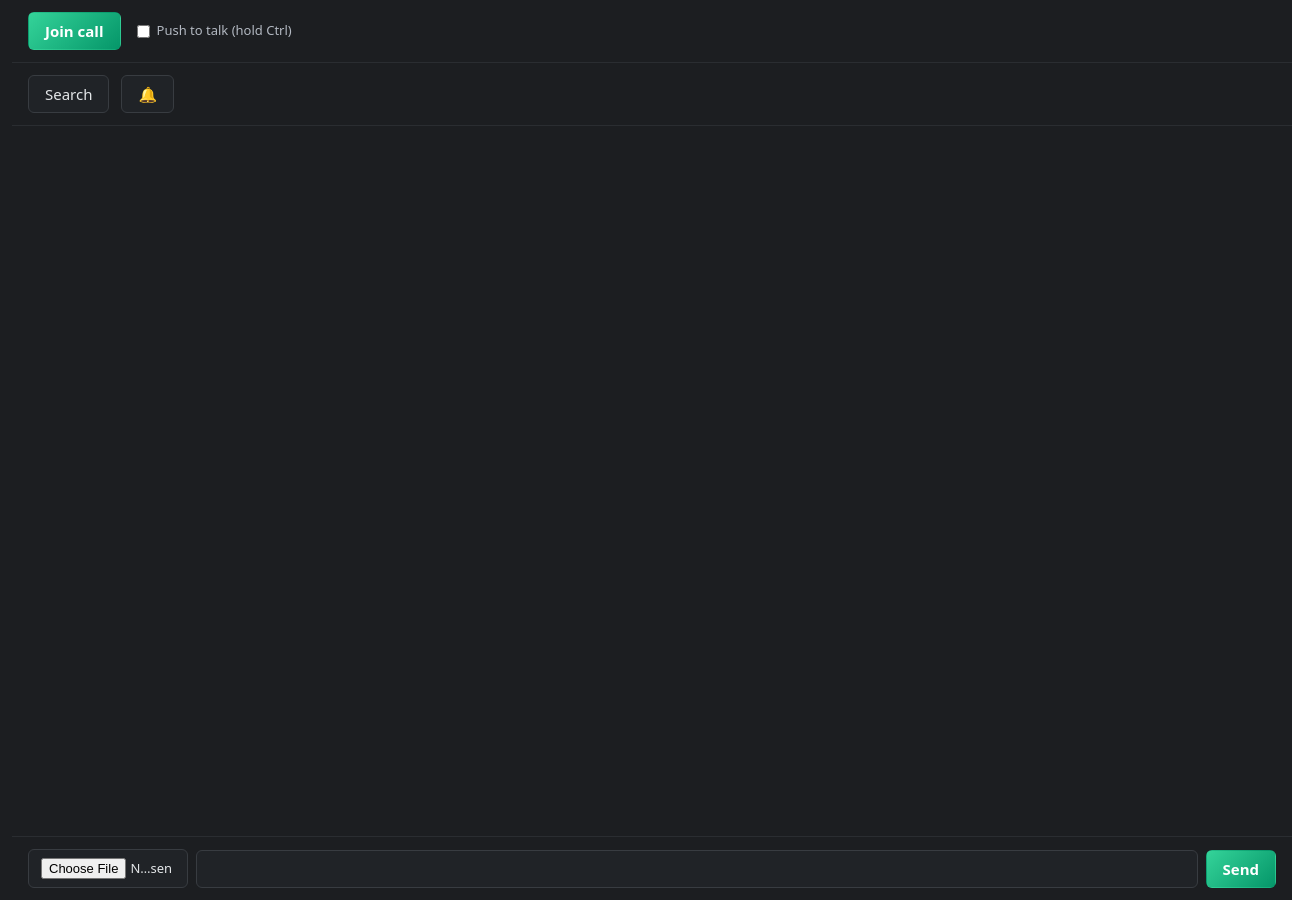
Test: ChatView › typing in the (non-encrypted) composer sends a typing frame, and a received user_typing shows the indicator
In the field named "Message": [697, 868] box 196,850 -> 1198,888, type "h"
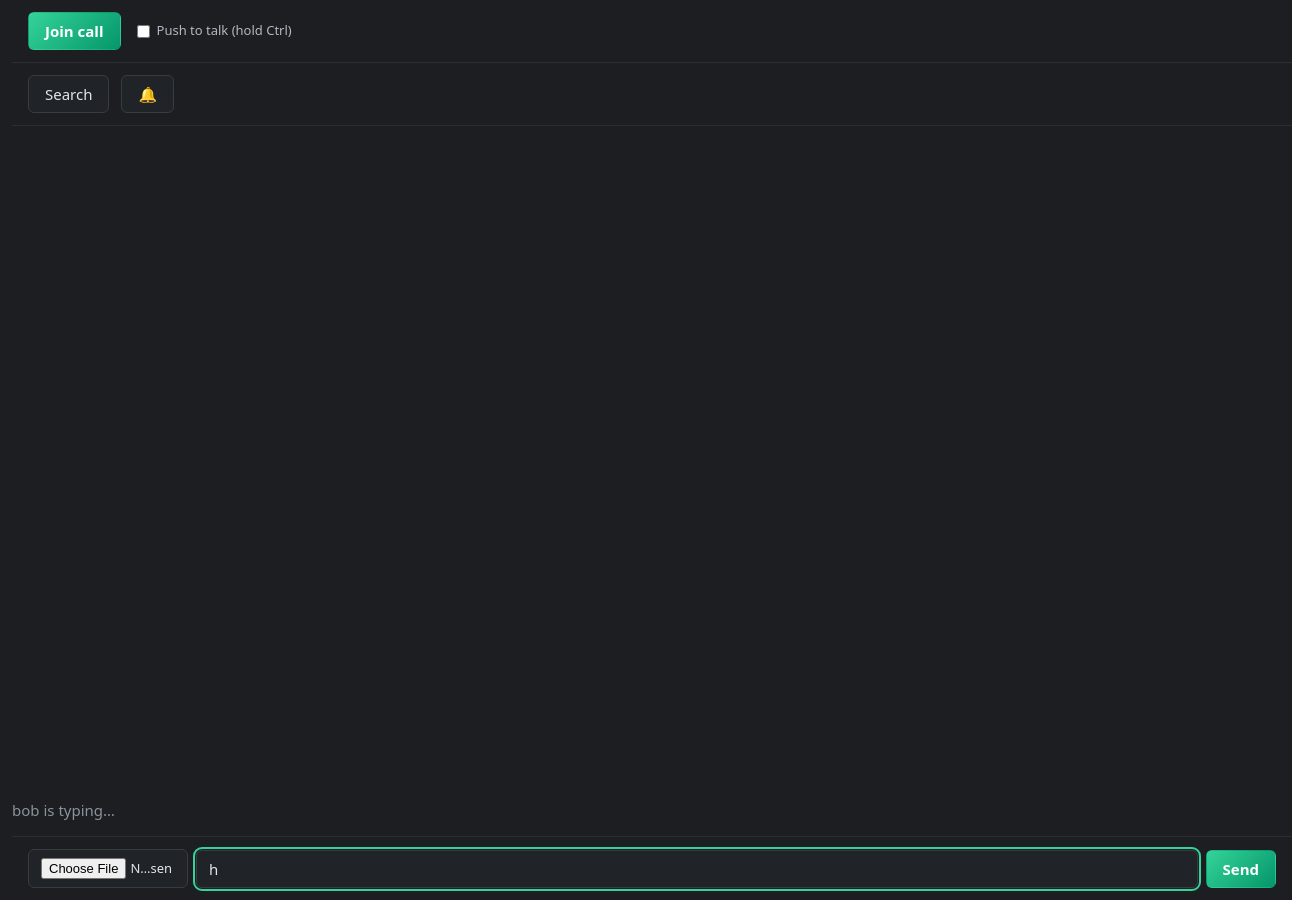
Check: the text "bob is typing…" is shown, box 12,800 -> 115,820
